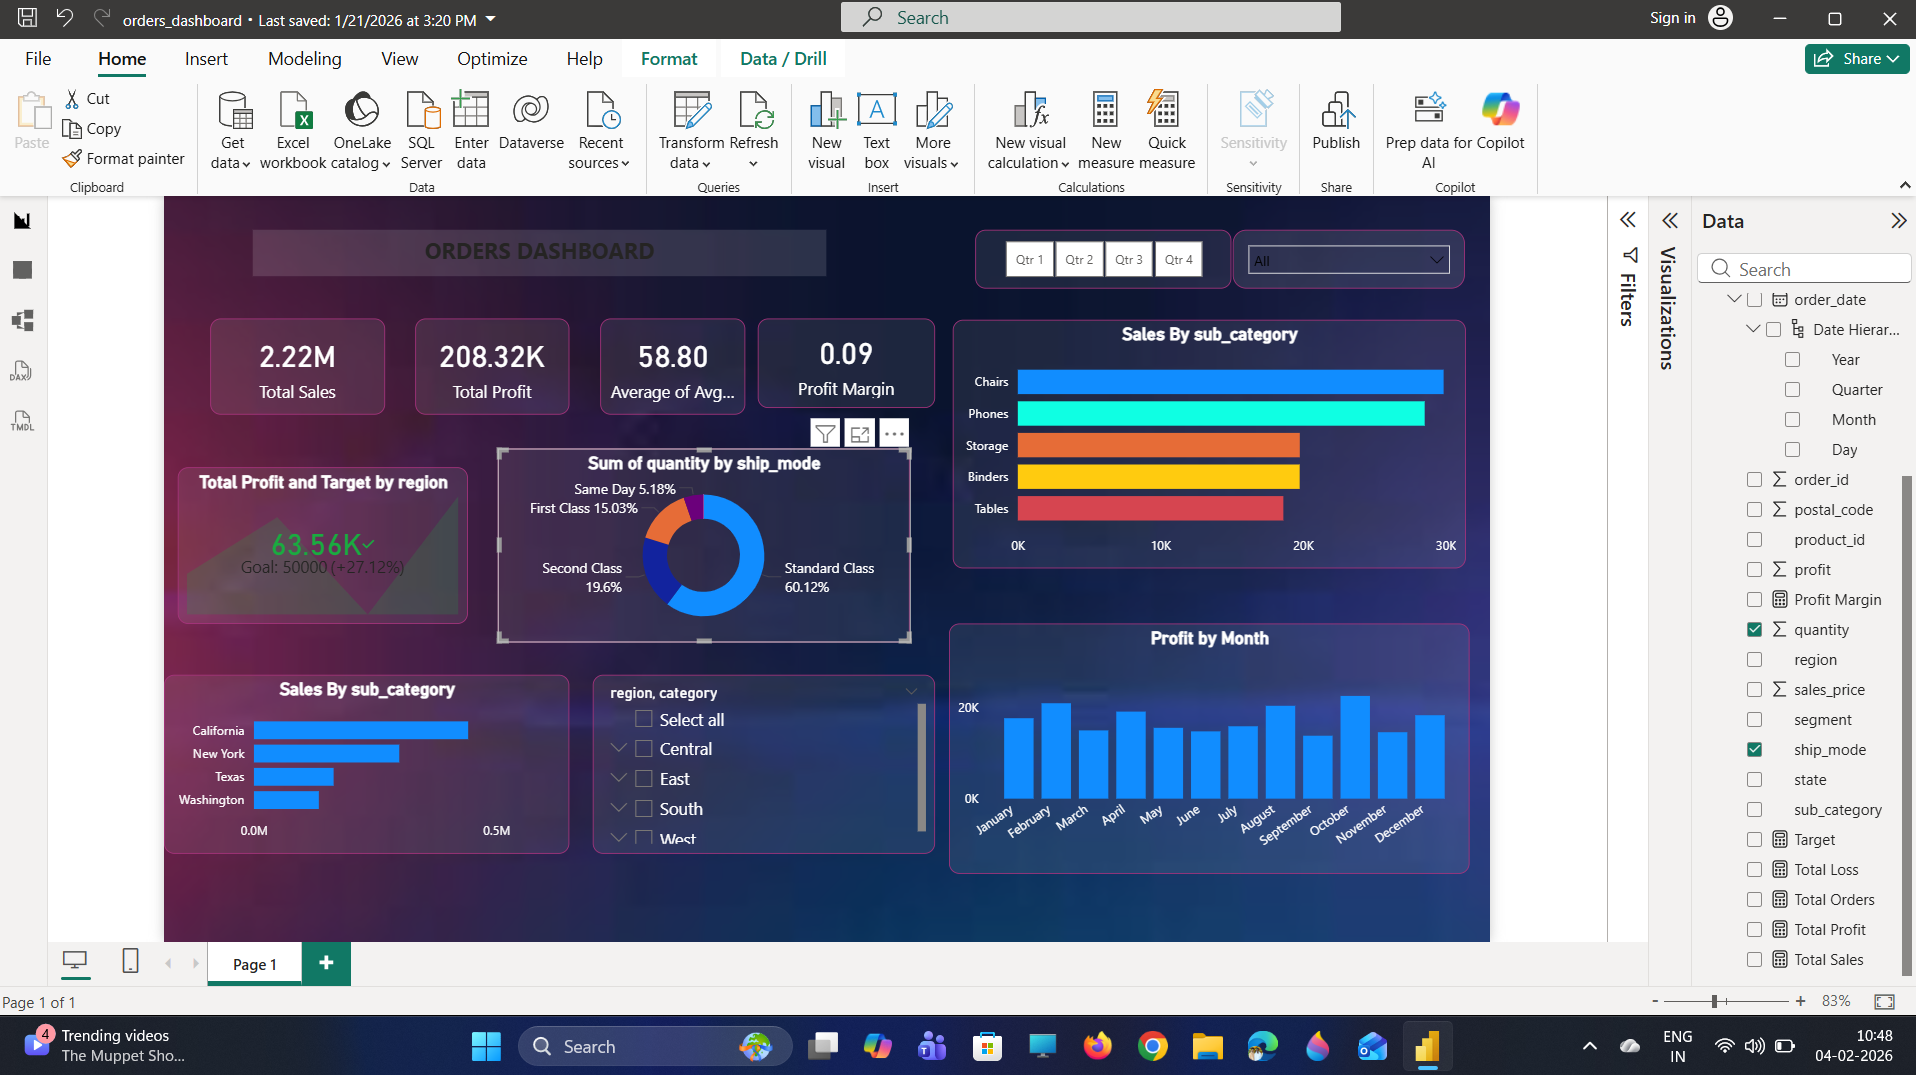

This screenshot's page, from the dashboard's own definition file:
{"tool":"powerbi","page":{"name":"Page 1","canvas":[1280,720],"ordinal":0},"visuals":[{"type":"card","fields":{"Values":["ravitejadb cleaned_orders.Total Profit"]},"box":[242.5,118.8,148.8,92.5],"z":0},{"type":"card","fields":{"Values":["ravitejadb cleaned_orders.Total Sales"]},"box":[45,118.8,168.8,92.5],"z":1000},{"type":"kpi","fields":{"Indicator":["ravitejadb cleaned_orders.Total Profit"],"TrendLine":["ravitejadb cleaned_orders.region"],"Goal":["ravitejadb cleaned_orders.Target"]},"box":[13.8,261.2,280,151.2],"z":2000},{"type":"textbox","box":[85.7,32.6,553.8,44.6],"z":3000},{"type":"columnChart","title":"Profit by Month","fields":{"Category":["ravitejadb cleaned_orders.order_date.Variation.Date Hierarchy.Month"],"Y":["ravitejadb cleaned_orders.Total Profit"]},"box":[757.5,412.5,502.5,241.2],"z":4000},{"type":"barChart","title":"Sales By sub_category","fields":{"Category":["ravitejadb cleaned_orders.sub_category"],"Y":["ravitejadb cleaned_orders.Total Profit"]},"box":[761.2,120,495,240],"z":5000},{"type":"donutChart","fields":{"Y":["ravitejadb cleaned_orders.quantity"],"Category":["ravitejadb cleaned_orders.ship_mode"]},"box":[322.5,243.8,397.5,187.5],"z":6000},{"type":"card","fields":{"Values":["ravitejadb cleaned_orders.Avg_order"]},"box":[421.2,118.8,140,92.5],"z":7000},{"type":"card","fields":{"Values":["ravitejadb cleaned_orders.Profit Margin"]},"box":[572.5,118.8,171.2,86.2],"z":8000},{"type":"barChart","title":"Sales By sub_category","fields":{"Category":["ravitejadb cleaned_orders.state"],"Y":["ravitejadb cleaned_orders.sales_price"]},"box":[0,462.1,390.9,172.5],"z":9000},{"type":"slicer","fields":{"Values":["ravitejadb cleaned_orders.region","ravitejadb cleaned_orders.category"]},"box":[413.8,462.1,330.6,172.5],"z":10000},{"type":"slicer","fields":{"Values":["ravitejadb cleaned_orders.order_date.Variation.Date Hierarchy.Quarter"]},"box":[783,32.6,247.3,56.7],"z":11000},{"type":"slicer","fields":{"Values":["ravitejadb cleaned_orders.city"]},"box":[1031.5,32.6,224.4,56.7],"z":12000}]}

Visuals, with their boxes on the page's 1280x720 design canvas (x1, y1, x2, y2). These are canvas units, not pixel positions in the 1916x1075 screenshot, which may show the page scaled, cropped or inside an application window:
card - ravitejadb cleaned_orders.Total Profit: (242,119,391,211)
card - ravitejadb cleaned_orders.Total Sales: (45,119,214,211)
kpi - ravitejadb cleaned_orders.Total Profit x ravitejadb cleaned_orders.region: (14,261,294,412)
textbox: (86,33,640,77)
"Profit by Month" columnChart: (758,412,1260,654)
"Sales By sub_category" barChart: (761,120,1256,360)
donutChart - ravitejadb cleaned_orders.quantity x ravitejadb cleaned_orders.ship_mode: (322,244,720,431)
card - ravitejadb cleaned_orders.Avg_order: (421,119,561,211)
card - ravitejadb cleaned_orders.Profit Margin: (572,119,744,205)
"Sales By sub_category" barChart: (0,462,391,635)
slicer - ravitejadb cleaned_orders.region x ravitejadb cleaned_orders.category: (414,462,744,635)
slicer - ravitejadb cleaned_orders.order_date.Variation.Date Hierarchy.Quarter: (783,33,1030,89)
slicer - ravitejadb cleaned_orders.city: (1032,33,1256,89)
